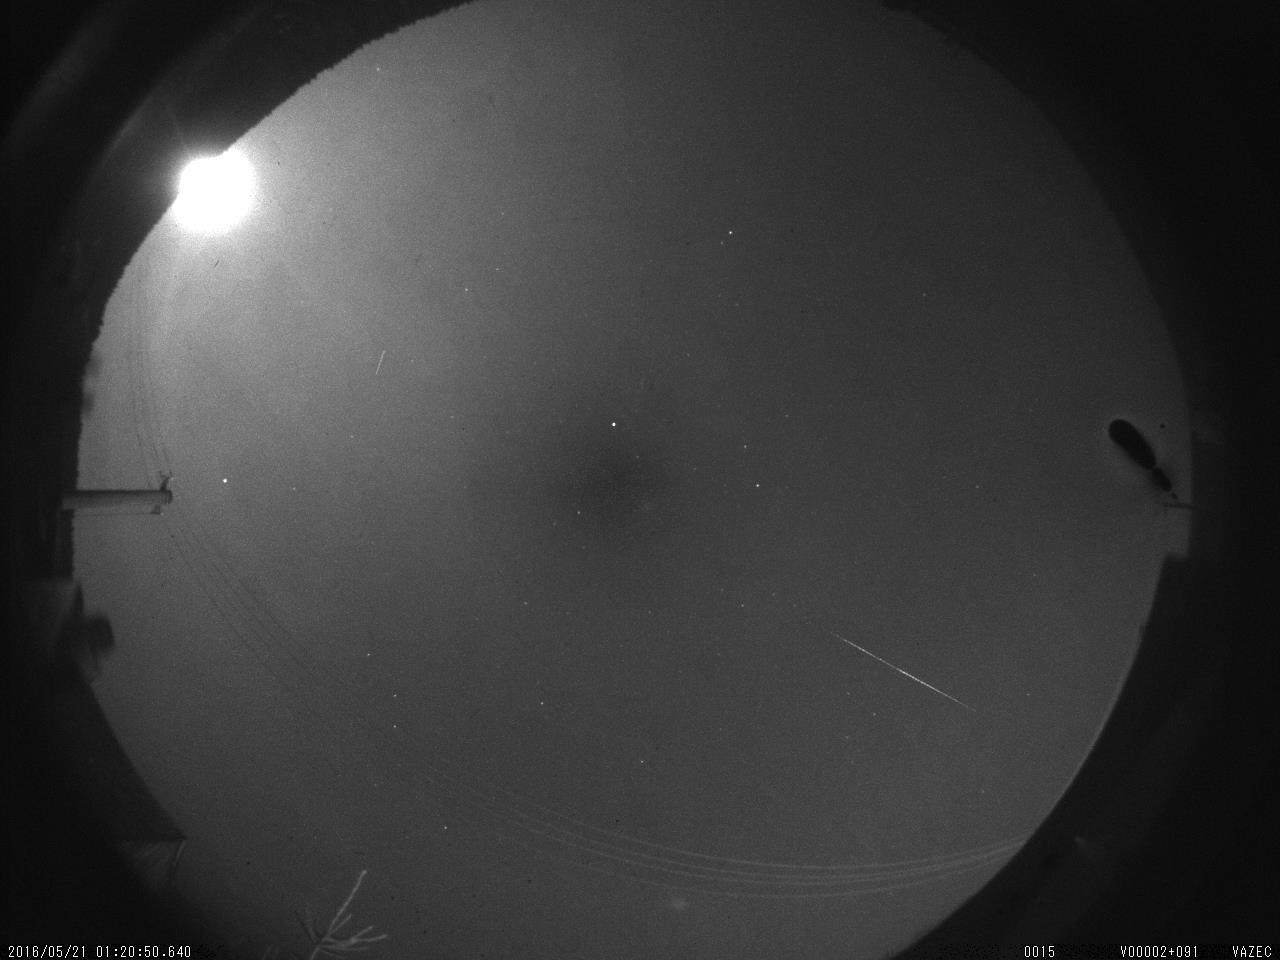meteor: (811, 605, 992, 724)
